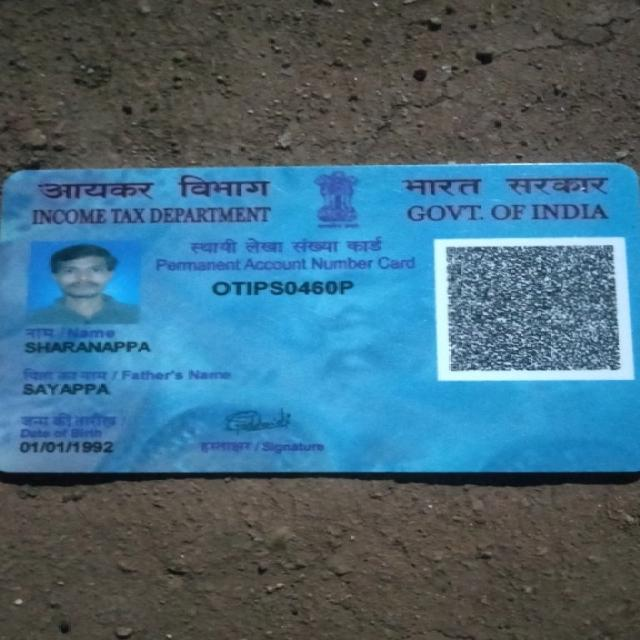pan_card: (2, 166, 640, 469)
